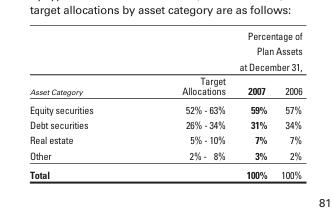table: (28, 29, 301, 180)
table column: (28, 29, 136, 180), (136, 29, 231, 180), (231, 29, 273, 180), (273, 29, 301, 180)
table column header: (28, 29, 301, 99)
table row: (28, 29, 301, 78), (28, 78, 301, 99), (28, 99, 301, 116), (28, 147, 301, 164), (28, 116, 301, 132), (28, 164, 301, 180), (28, 132, 301, 147)
table spanning cell: (28, 29, 136, 99), (136, 29, 231, 99), (231, 29, 301, 78)
